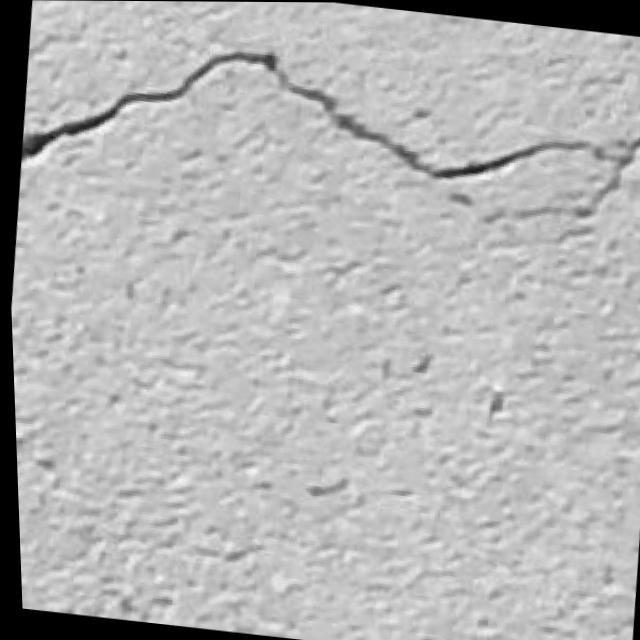Crack: (11, 8, 640, 261)
